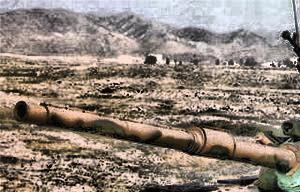tanks: (15, 102, 300, 192), (283, 34, 300, 72)
